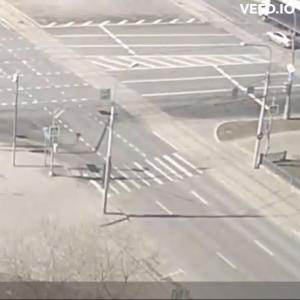car: (268, 32, 298, 50)
